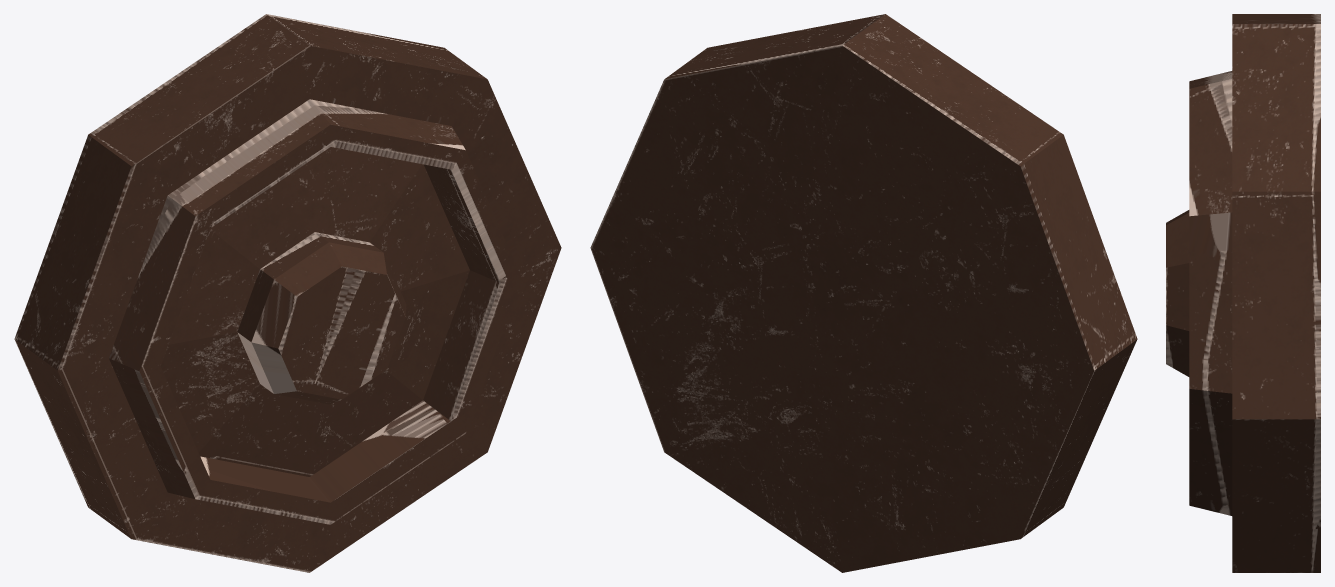
File: Misc1.gltf
The picture shows the model from 3 angles, left to right: view 1: azimuth 30°, elevation 25°; view 2: azimuth 150°, elevation 25°; view 3: azimuth 270°, elevation 25°; orthographic projection. The views are drawn at different scales.
Visible parts, largest first — view 1: Cylinder.028; view 2: Cylinder.028; view 3: Cylinder.028.
Boxes of the visible parts, x1,y1,x2,y2 form: Cylinder.028: (14, 14, 561, 572); Cylinder.028: (590, 14, 1137, 572); Cylinder.028: (1166, 14, 1320, 572).
Bounding box in the file's own units: 1.74 × 1.74 × 0.454.
1 material, 1 textured.
